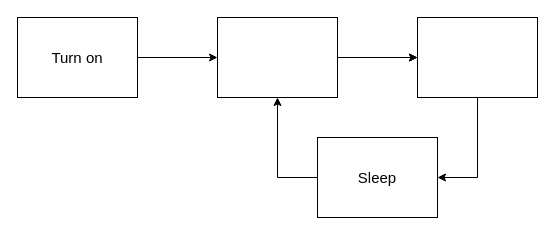
Image size: 555x235. Some labels were removed from this diagram. The centre of each missing label's shape, as x and y in pixels:
"Data collection" goes at [277,57].
"Send data" goes at [477,57].
